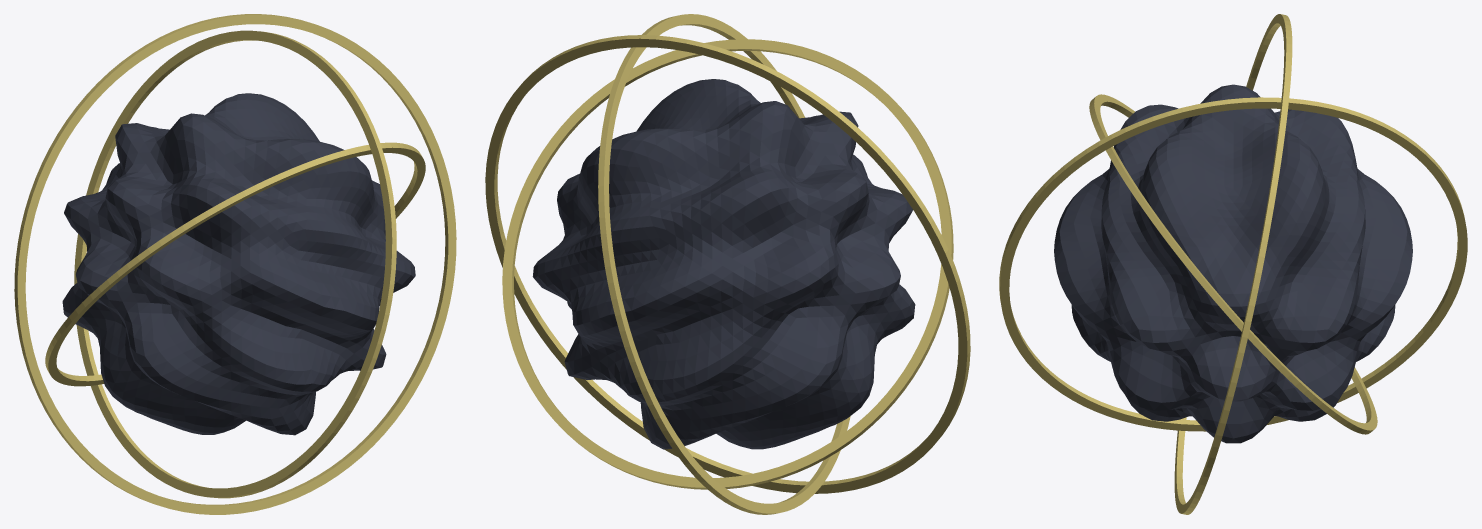
Rendered from gpu-artifact.glb.
The picture shows the model from 3 angles, left to right: view 1: azimuth 30°, elevation 25°; view 2: azimuth 150°, elevation 25°; view 3: azimuth 270°, elevation 25°; orthographic projection. The views are drawn at different scales.
Visible parts, largest first — view 1: zoth-swarm-multiplexer_obsidian_core, zoth-swarm-multiplexer_orbital_ring_2, zoth-swarm-multiplexer_orbital_ring_1, zoth-swarm-multiplexer_orbital_ring_0; view 2: zoth-swarm-multiplexer_obsidian_core, zoth-swarm-multiplexer_orbital_ring_2, zoth-swarm-multiplexer_orbital_ring_0, zoth-swarm-multiplexer_orbital_ring_1; view 3: zoth-swarm-multiplexer_obsidian_core, zoth-swarm-multiplexer_orbital_ring_1, zoth-swarm-multiplexer_orbital_ring_2, zoth-swarm-multiplexer_orbital_ring_0.
Boxes of the visible parts, x1,y1,x2,y2 form: zoth-swarm-multiplexer_obsidian_core: (62, 93, 415, 435); zoth-swarm-multiplexer_orbital_ring_2: (14, 14, 456, 514); zoth-swarm-multiplexer_orbital_ring_1: (74, 30, 396, 498); zoth-swarm-multiplexer_orbital_ring_0: (45, 142, 425, 386); zoth-swarm-multiplexer_obsidian_core: (532, 79, 915, 449); zoth-swarm-multiplexer_orbital_ring_2: (485, 35, 970, 493); zoth-swarm-multiplexer_orbital_ring_0: (502, 39, 953, 489); zoth-swarm-multiplexer_orbital_ring_1: (598, 14, 850, 514); zoth-swarm-multiplexer_obsidian_core: (1054, 84, 1412, 443); zoth-swarm-multiplexer_orbital_ring_1: (999, 97, 1467, 431); zoth-swarm-multiplexer_orbital_ring_2: (1174, 14, 1292, 514); zoth-swarm-multiplexer_orbital_ring_0: (1089, 94, 1377, 434).
Bounding box in the file's own units: 3.24 × 3.17 × 2.98.
